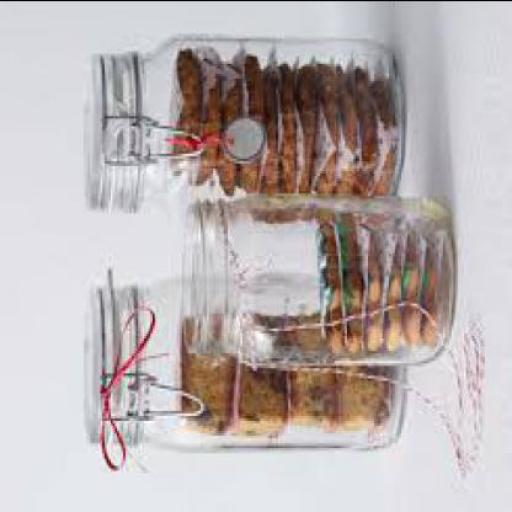biodegradable: (318, 314, 386, 432), (230, 314, 286, 440), (313, 220, 364, 352), (278, 317, 336, 430), (178, 320, 226, 438), (190, 52, 220, 195), (232, 57, 262, 193), (169, 50, 201, 175), (311, 64, 336, 198), (218, 62, 240, 198), (293, 67, 315, 198), (350, 67, 372, 193), (419, 242, 443, 354), (334, 67, 354, 198), (256, 62, 274, 205), (380, 250, 402, 362), (397, 242, 417, 360), (363, 235, 383, 350), (372, 77, 391, 195), (274, 60, 290, 198)
glass: (83, 35, 406, 220), (84, 285, 404, 455), (180, 197, 453, 370)
